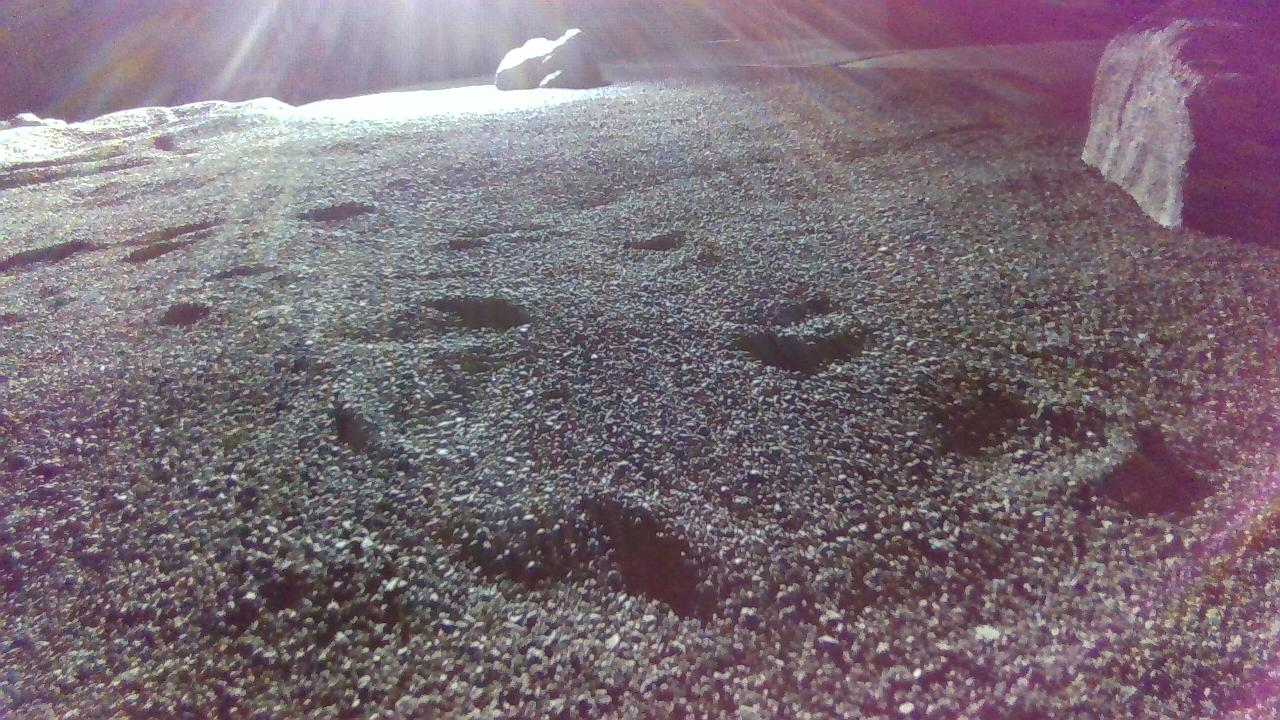rock: (1085, 1, 1280, 246), (495, 27, 606, 89)
